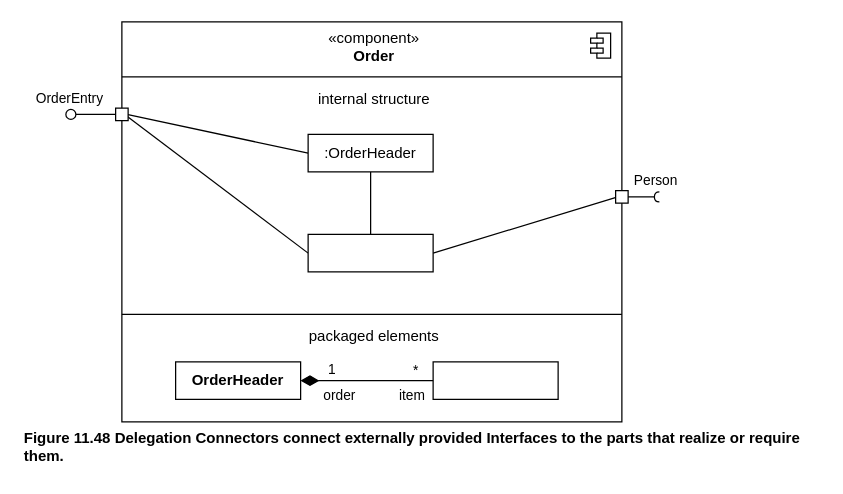
This 843x494 diagram has some shape labels left out. The shapes that lost their labels are listed below. From the top down, each one's box as (x1, y1, x2, y2) in pixels, then its label:
(307, 233, 433, 272): :LineItem
(432, 361, 558, 399): LineItem
